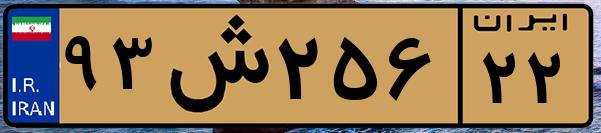2: (270, 28, 330, 110), (475, 38, 525, 113), (525, 38, 570, 115)
3: (110, 28, 158, 98)
5: (330, 28, 385, 110)
6: (385, 28, 445, 110)
9: (57, 26, 110, 100)
ش: (158, 12, 270, 120)
